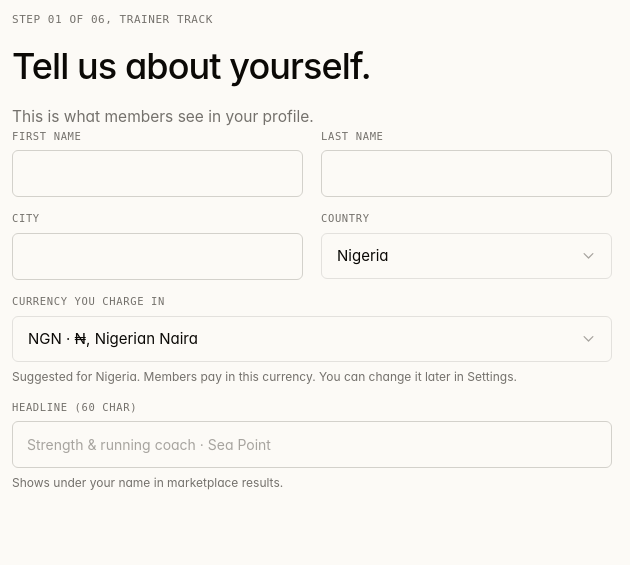
Scenario: trainer basics step › clears prices typed in the old currency when the country changes
Expected: the field labelled "City" is shown, [12,233,303,280]
What coordinates should you click on to do the following:
click the button named "Country"
I would click on:
 (363, 256)
Its box is [321,233,612,279].
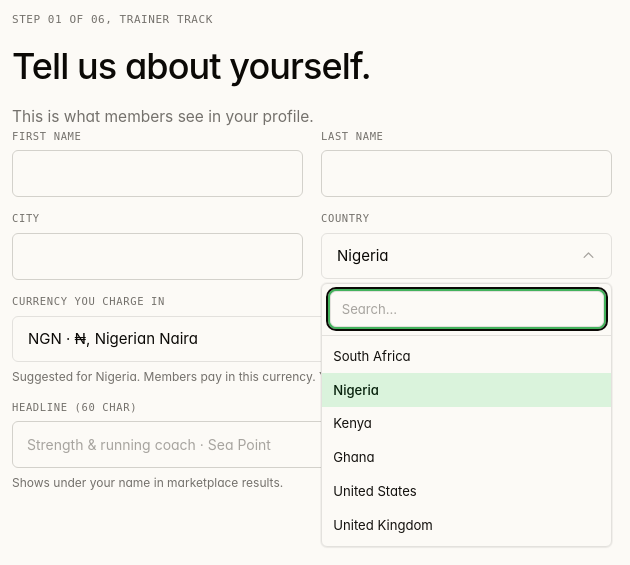
What coordinates should you click on to do the following:
click the list item "Kenya"
I would click on:
 (353, 423)
Its box is [333,415,372,431].
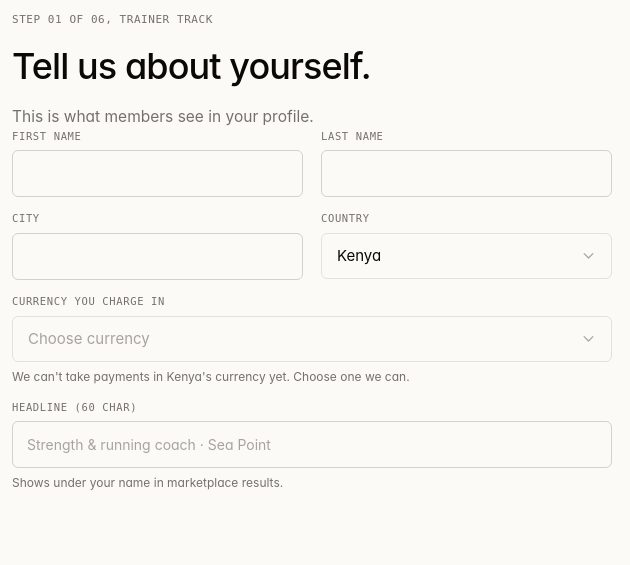
Result: the text "Kenya" is shown at [337,245,381,267]
